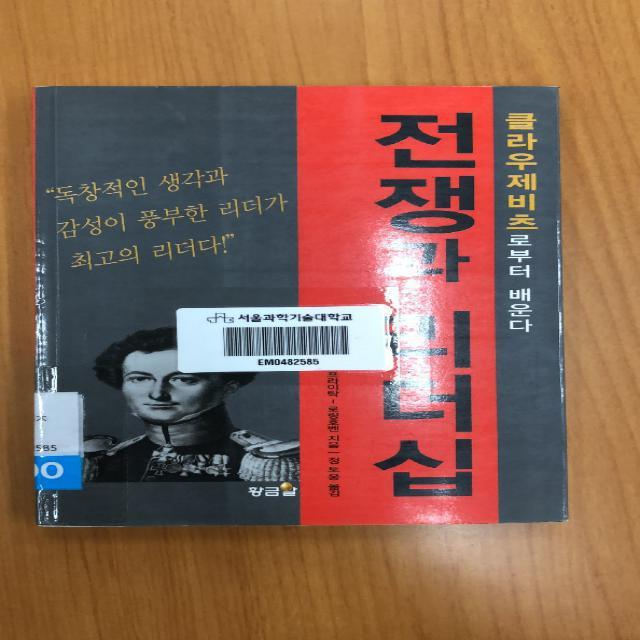Wornout: (33, 516, 128, 529), (508, 512, 572, 526), (517, 82, 565, 95), (28, 80, 75, 93)
